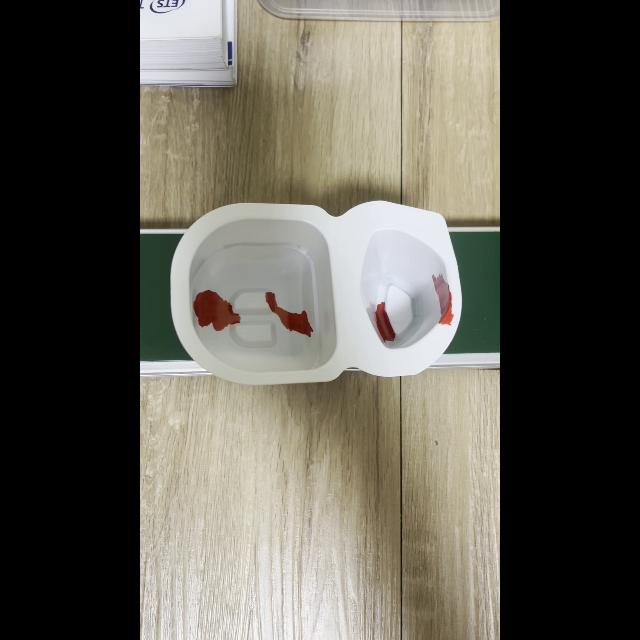dirty: (172, 202, 458, 382)
